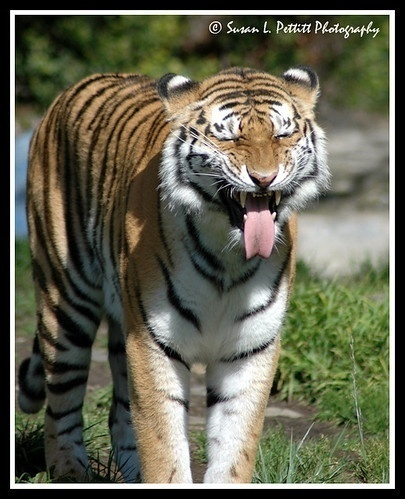tigre: (18, 62, 331, 484)
